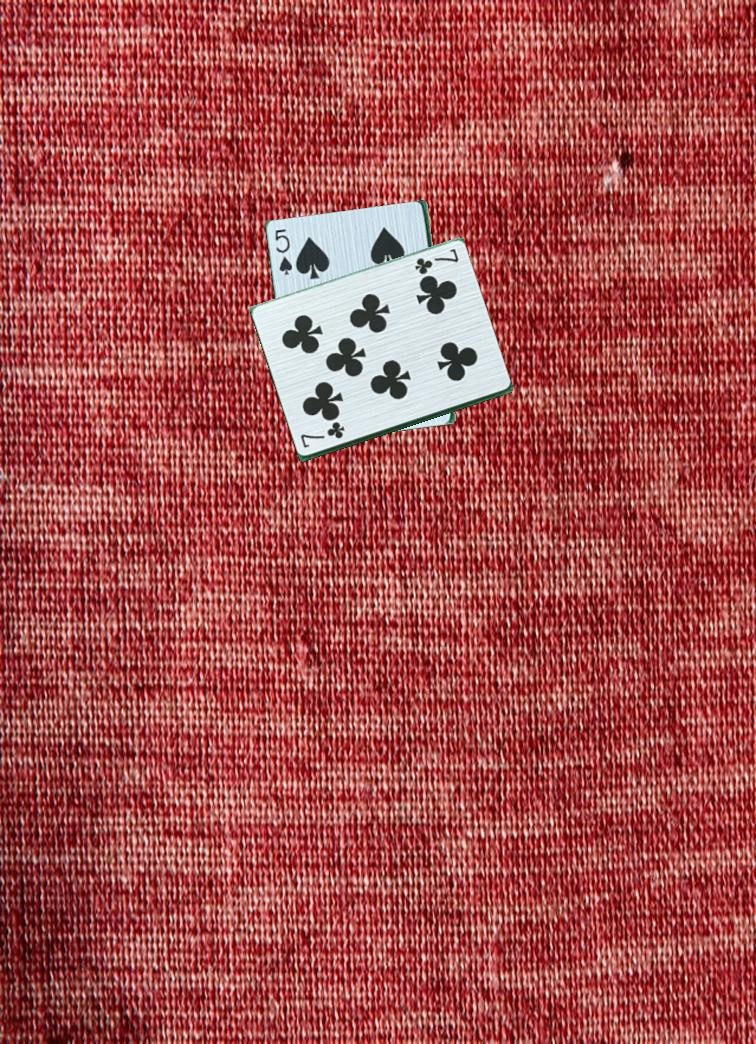5s: (272, 222, 298, 280)
7c: (410, 244, 462, 279), (297, 421, 348, 450)
